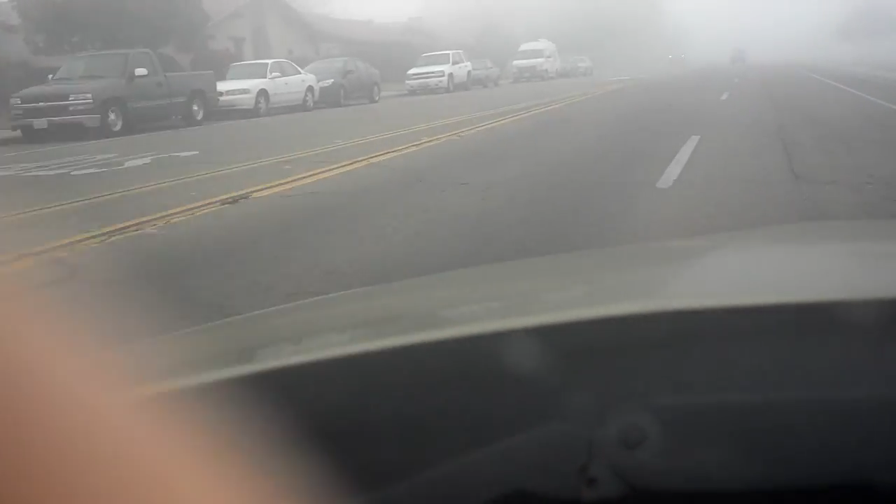car: (8, 48, 216, 140), (211, 58, 320, 113), (300, 56, 383, 107), (404, 49, 474, 95), (510, 38, 560, 83), (465, 58, 503, 89), (556, 56, 580, 77), (573, 56, 595, 75), (667, 51, 687, 67), (731, 47, 747, 63)
